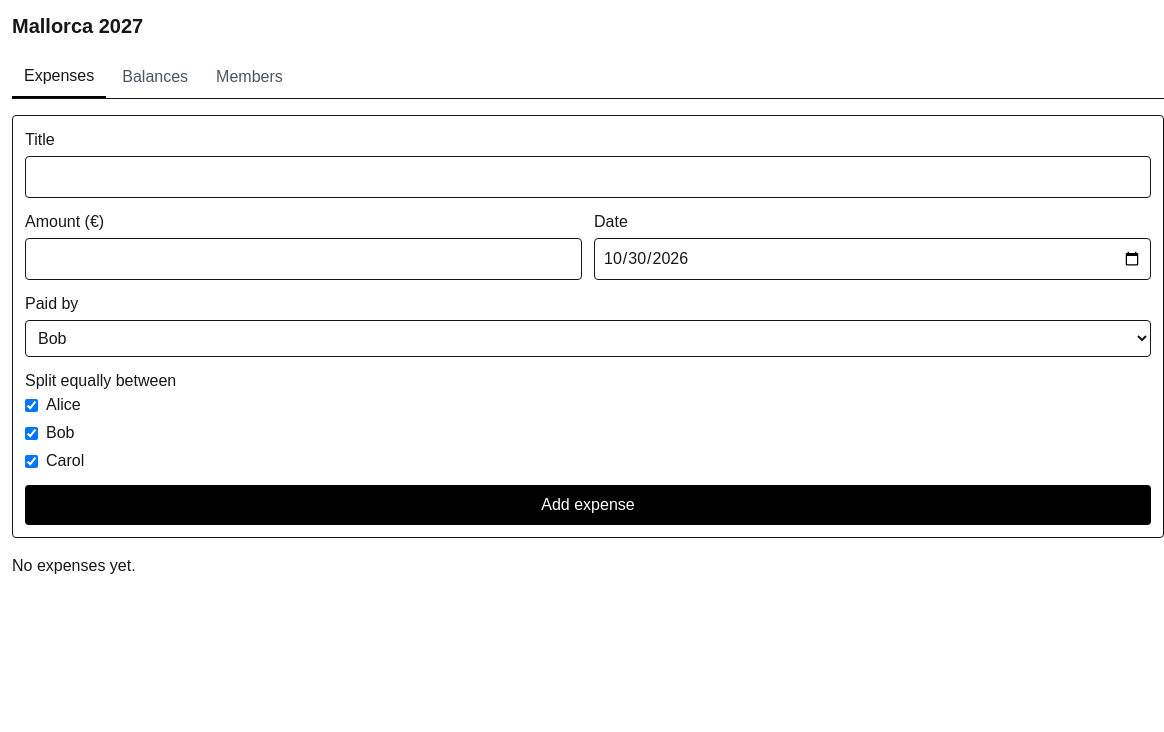
it: GroupDetail › tellsTheUserThatBalancesFollowAfterAnExpenseWasRecorded
Type "Dinner" into the field labelled "Title" at (588, 177), box [25,156,1151,198]
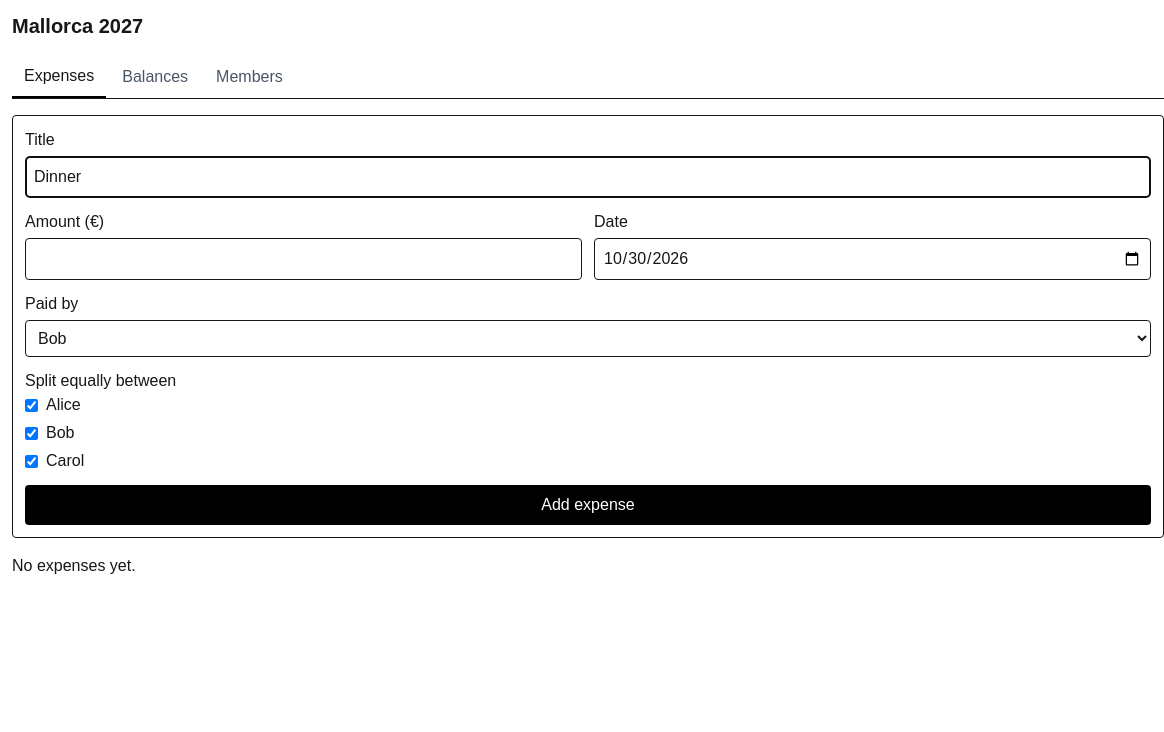
Type "180" into the field labelled "Amount (€)" at (304, 259), box [25,238,582,280]
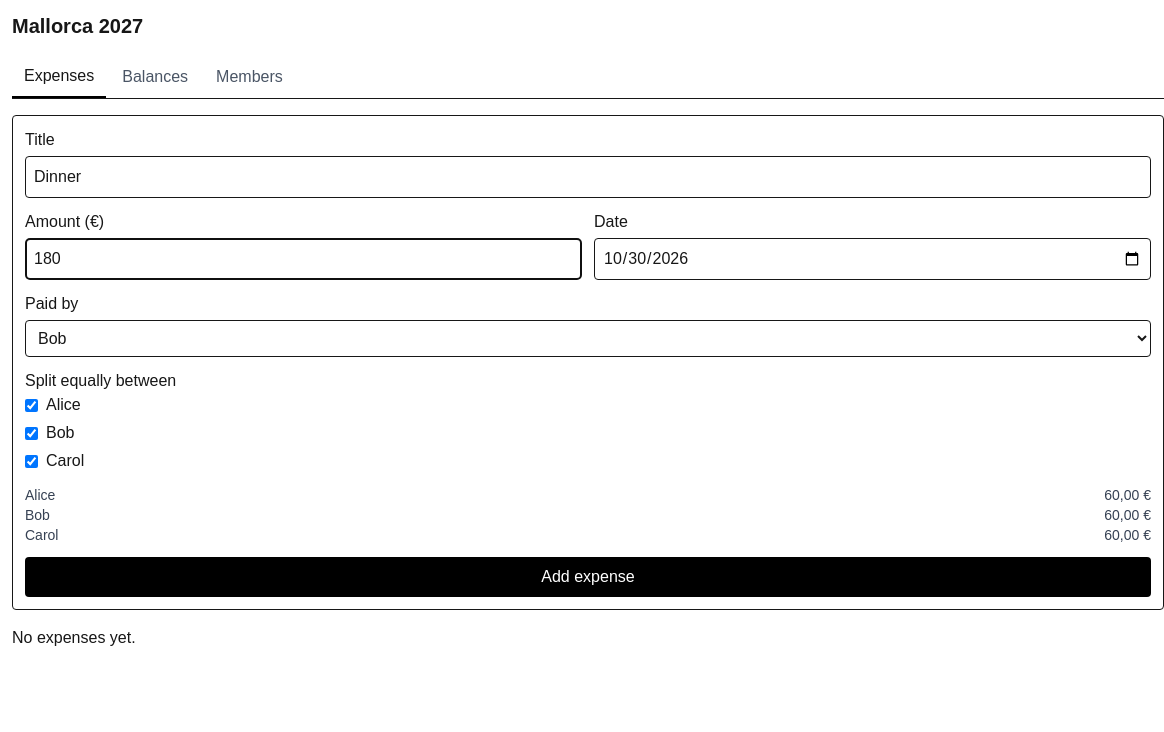
Click the button "Add expense" at (588, 577), box [25,557,1151,597]
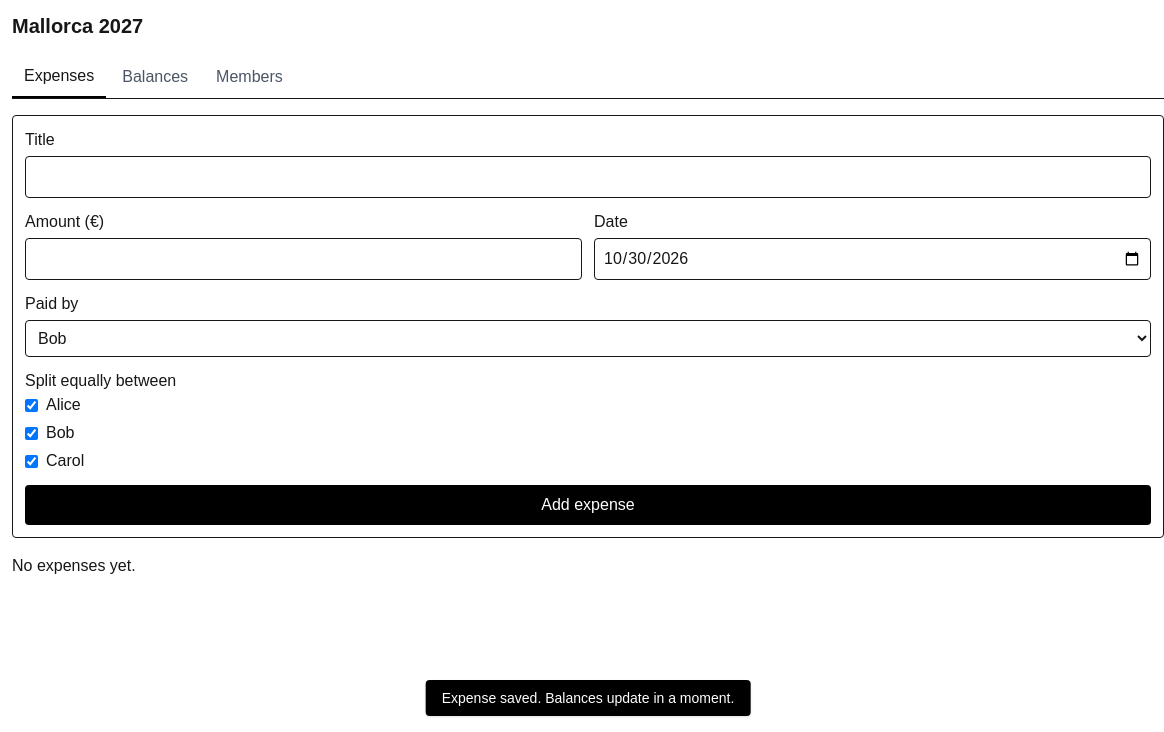
Result: the message reads "Expense saved. Balances update in a moment." at [442,690,734,706]
